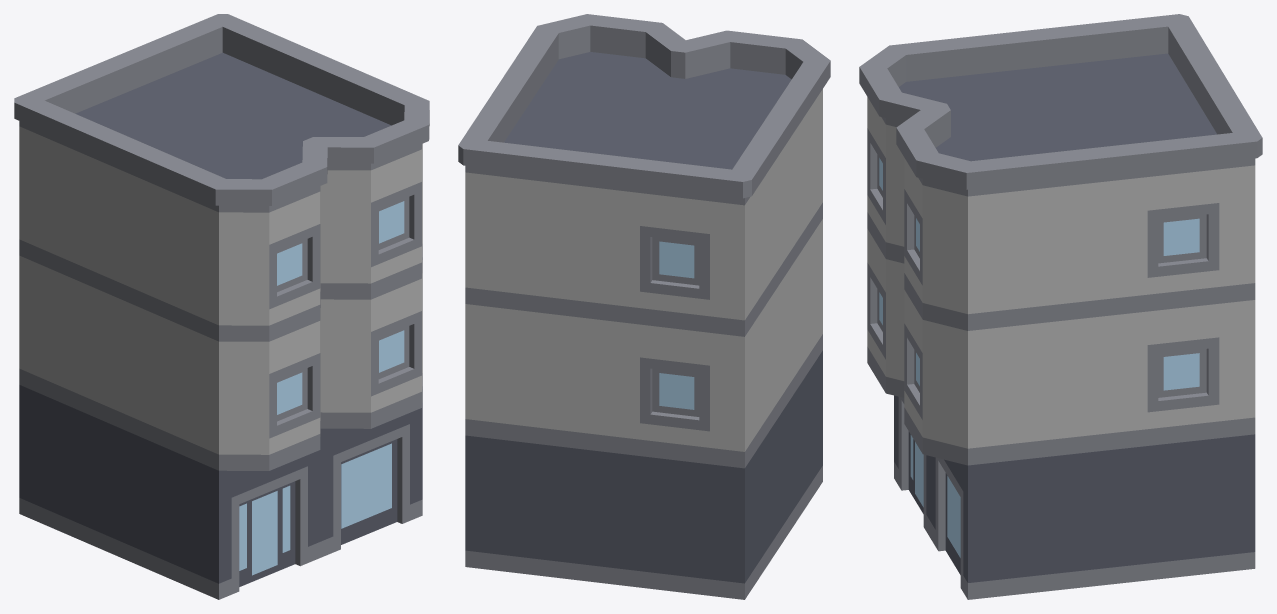
Rendered from variant_27.fbx.
The picture shows the model from 3 angles, left to right: view 1: azimuth 30°, elevation 25°; view 2: azimuth 150°, elevation 25°; view 3: azimuth 270°, elevation 25°; orthographic projection. The views are drawn at different scales.
Visible parts, largest first — view 1: small_buildingA; view 2: small_buildingA; view 3: small_buildingA.
Part boxes in pixels (x1,y1,x2,y2): small_buildingA: (14,14,429,599); small_buildingA: (458,14,830,599); small_buildingA: (859,14,1262,599).
Bounding box in the file's own units: 101 × 128 × 109.
